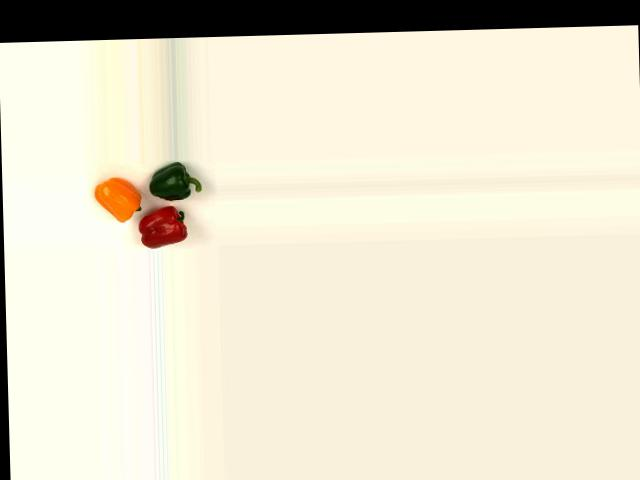bell_pepper: (148, 161, 203, 203)
